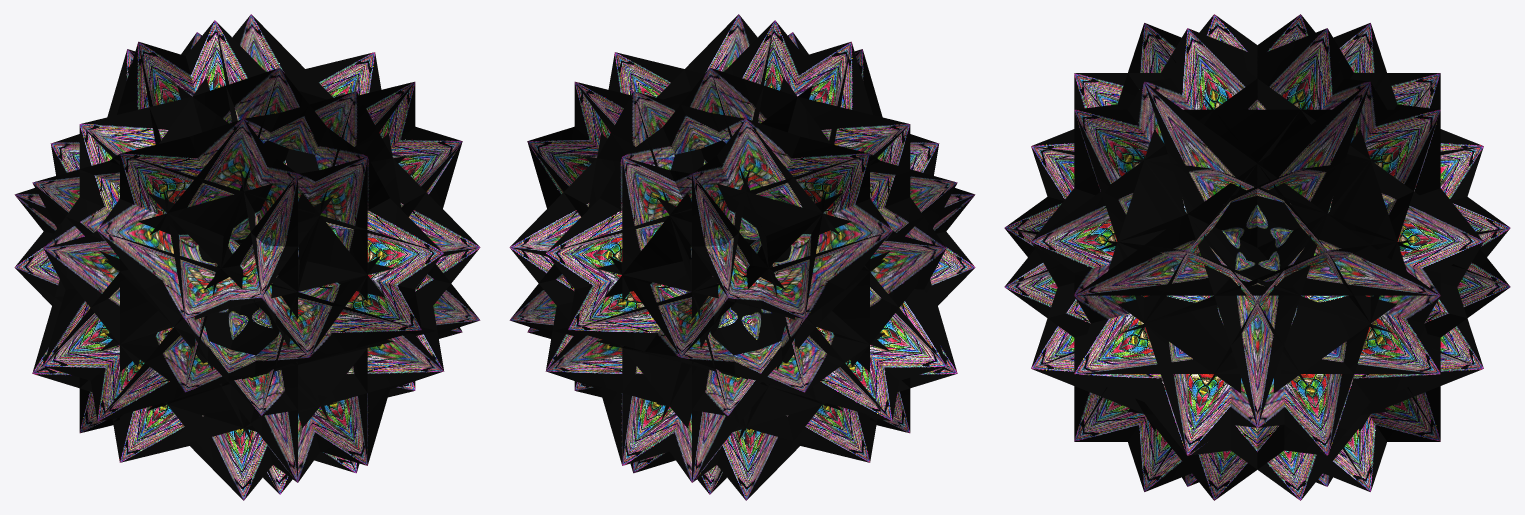
The model's file is 5GreatRhombidodecahedron.gltf.
3 views of the same model, side by side, from view 1: azimuth 30°, elevation 25°; view 2: azimuth 150°, elevation 25°; view 3: azimuth 270°, elevation 25° (orthographic). The views are drawn at different scales.
Visible parts, largest first — view 1: 1GreatRhombidodecahedron; view 2: 1GreatRhombidodecahedron; view 3: 1GreatRhombidodecahedron.
Boxes of the visible parts, x1,y1,x2,y2 form: 1GreatRhombidodecahedron: [14, 14, 480, 500]; 1GreatRhombidodecahedron: [509, 14, 975, 500]; 1GreatRhombidodecahedron: [1004, 14, 1510, 500].
Bounding box in the file's own units: 1.38 × 1.38 × 1.38.
Materials: 1 (1 with a texture image).
